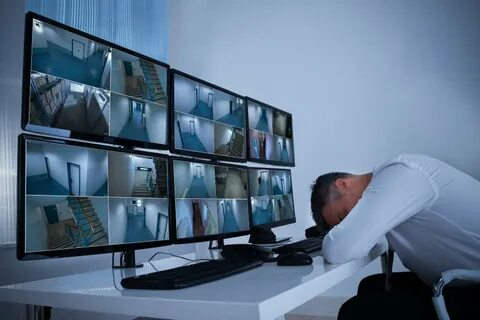sleep: (309, 152, 479, 319)
